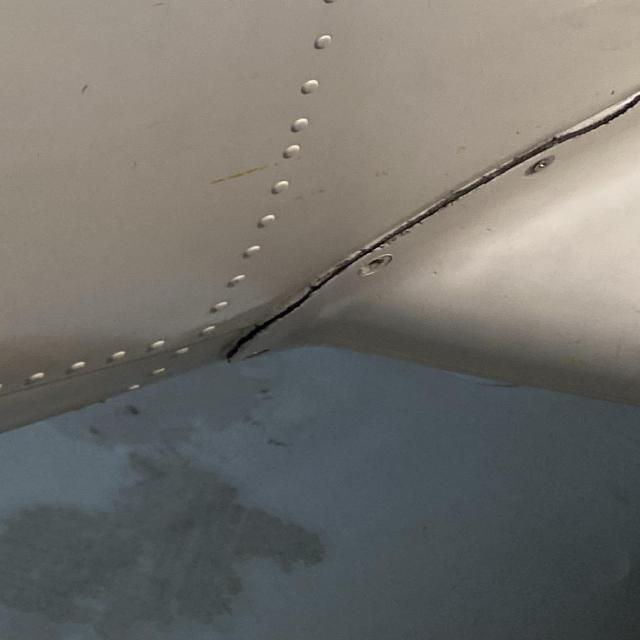Crack: (347, 153, 551, 263), (465, 87, 640, 191), (219, 264, 350, 357)
Missing-head: (355, 254, 393, 280)
